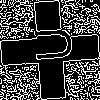U: (25, 25, 73, 64)
